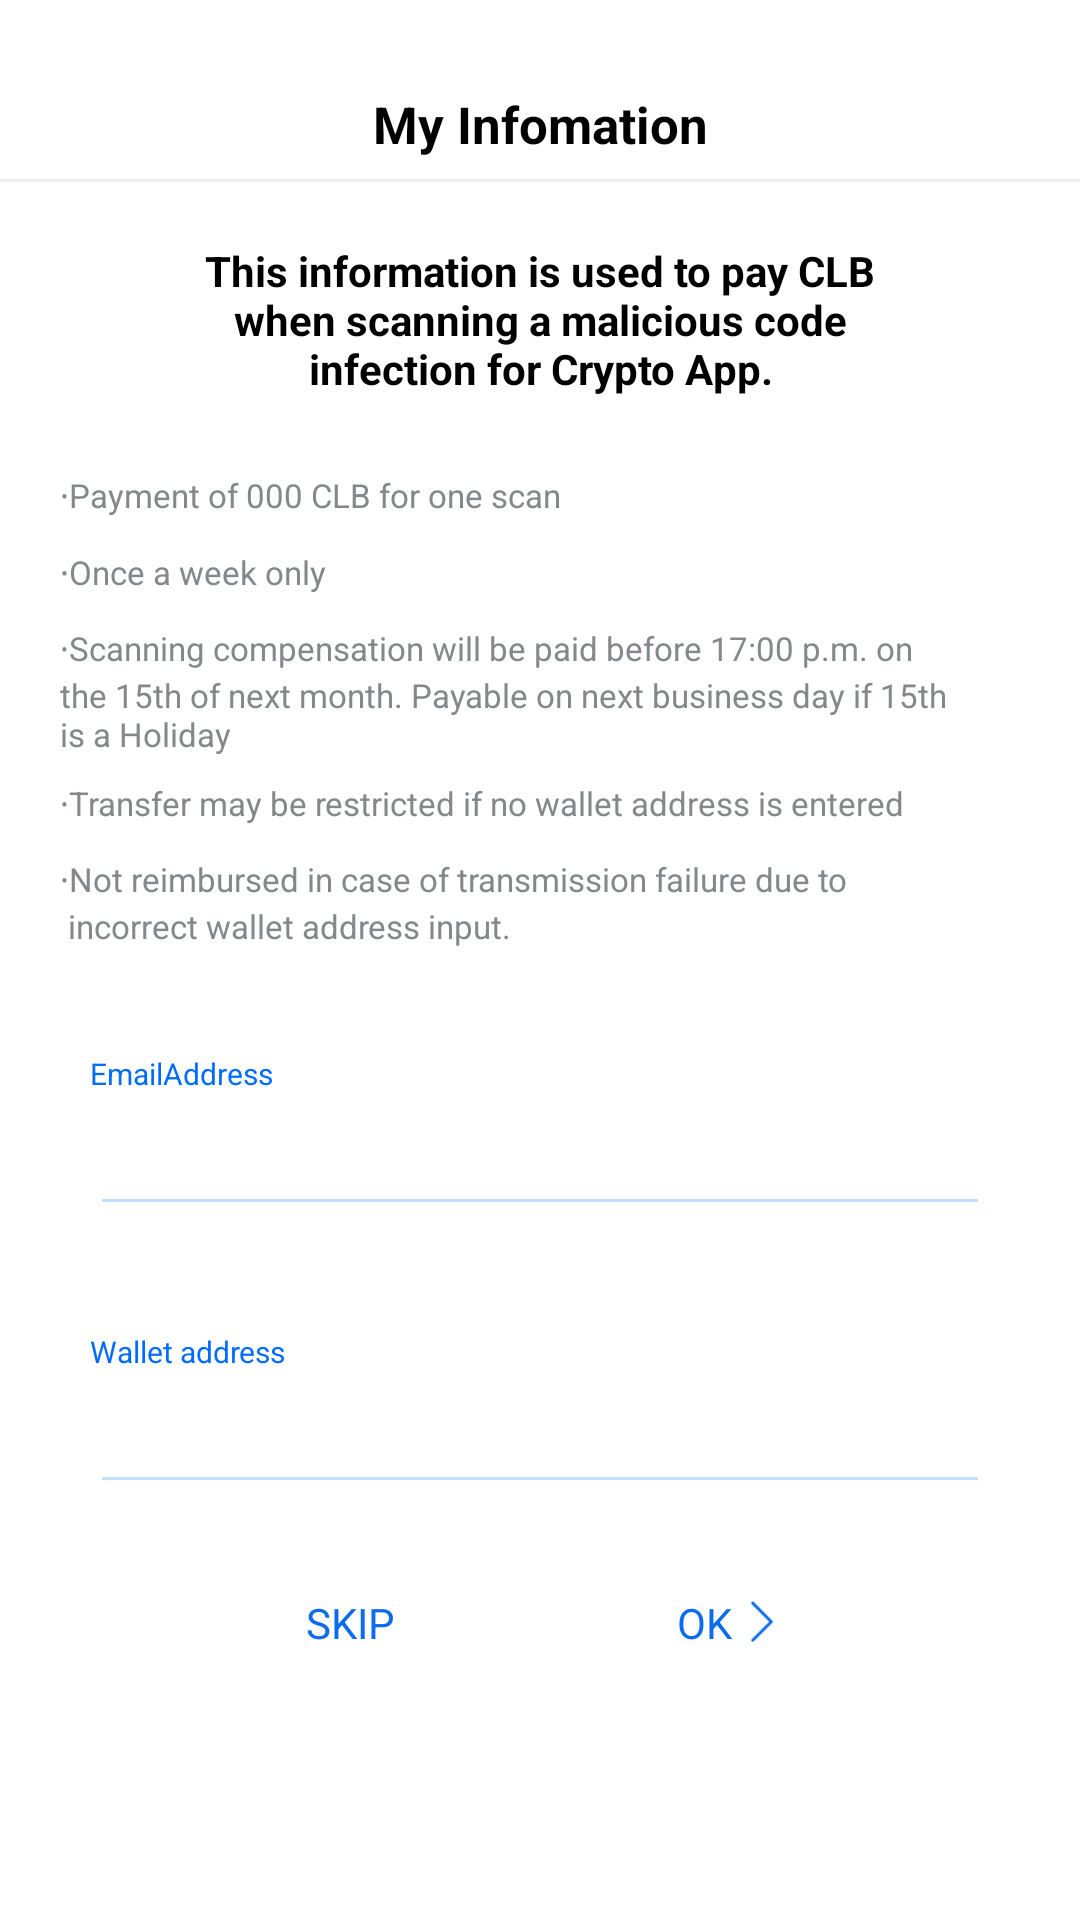

Point at icon controls on the screen. Image size 1080px×1920px, points as (x=x, y=y).
right arrow: (x=762, y=1621)
